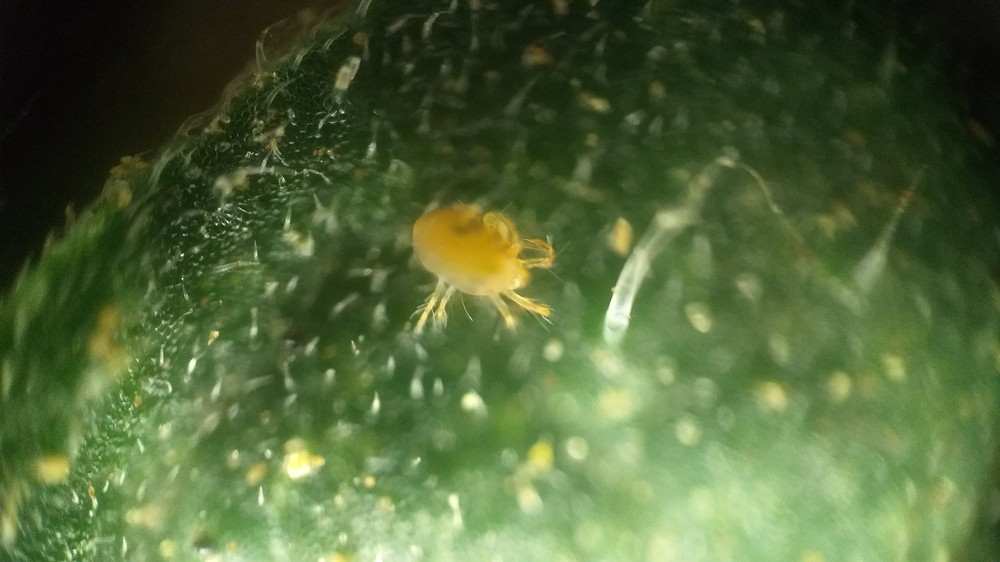Aracnido Rojo: (380, 181, 590, 367)
